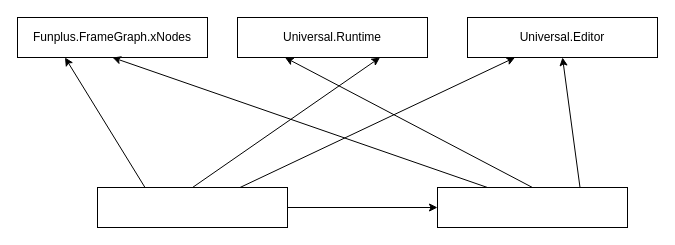
This 675x245 diagram has some shape labels left out. Each missing label, with the box of its shape:
Funplus.FrameGraph.Editor: (96, 186, 288, 228)
Funplus.FrameGraph.Nodes: (436, 186, 628, 228)
